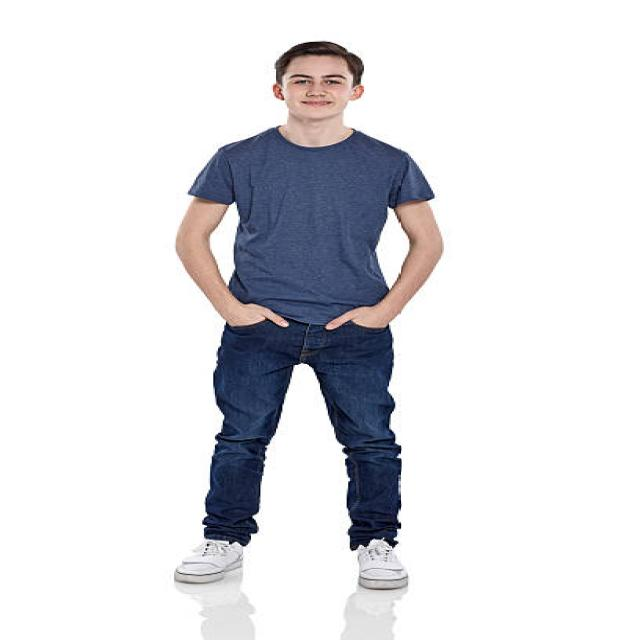Edited images: (144, 31, 470, 602)
